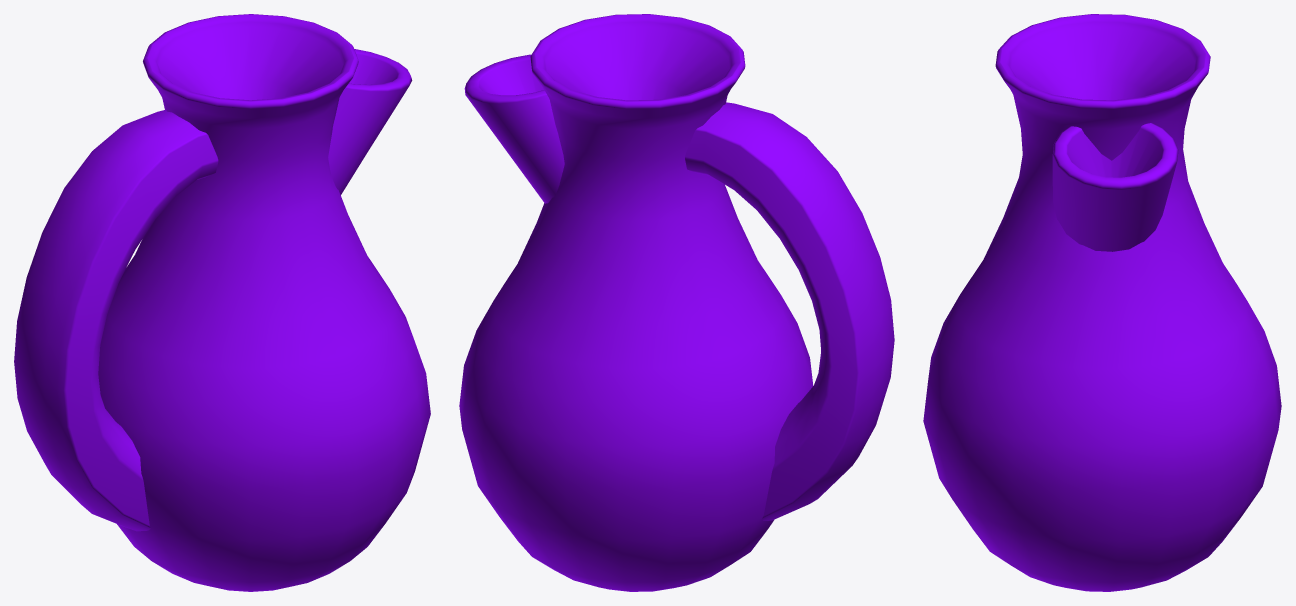
The model's file is Renown_simplejug1.fbx.
3 renders of one model, left to right at view 1: azimuth 30°, elevation 25°; view 2: azimuth 150°, elevation 25°; view 3: azimuth 270°, elevation 25°, orthographic.
Visible parts, largest first — view 1: JUG_1; view 2: JUG_1; view 3: JUG_1.
Part boxes in pixels (<box>): JUG_1: <box>14,14,430,591</box>; JUG_1: <box>459,14,894,591</box>; JUG_1: <box>923,14,1281,591</box>.
Bounding box in the file's own units: 28.67 × 35.27 × 22.71.
